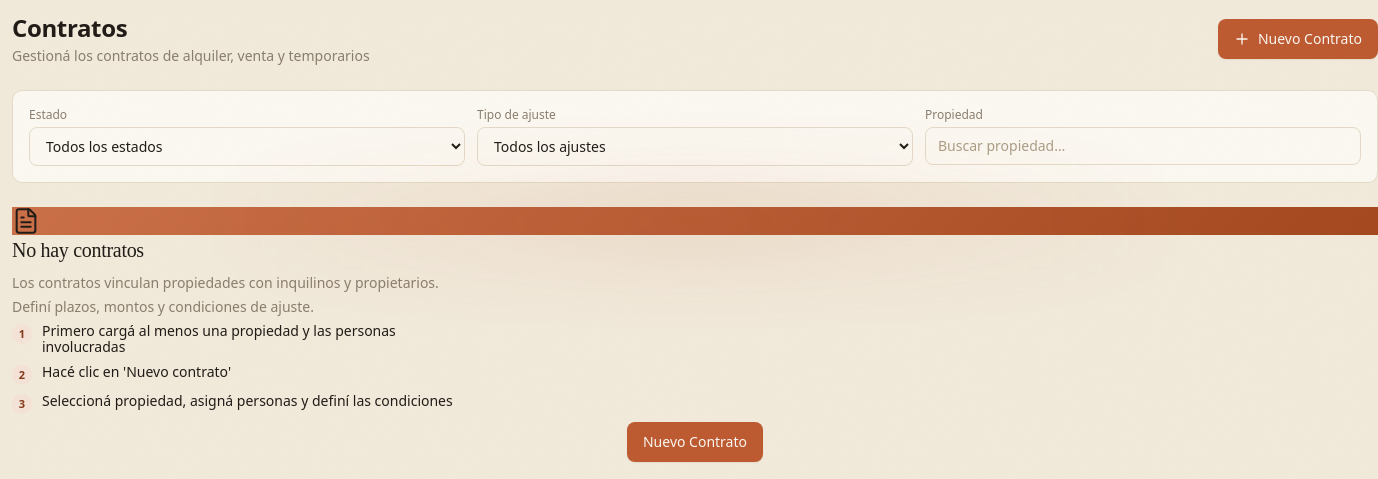
it: ContractList › con filtros y sin resultados ofrece limpiarlos
Type "xyz" into the field with id "filter-search" at [1143, 146], box [925, 127, 1361, 165]
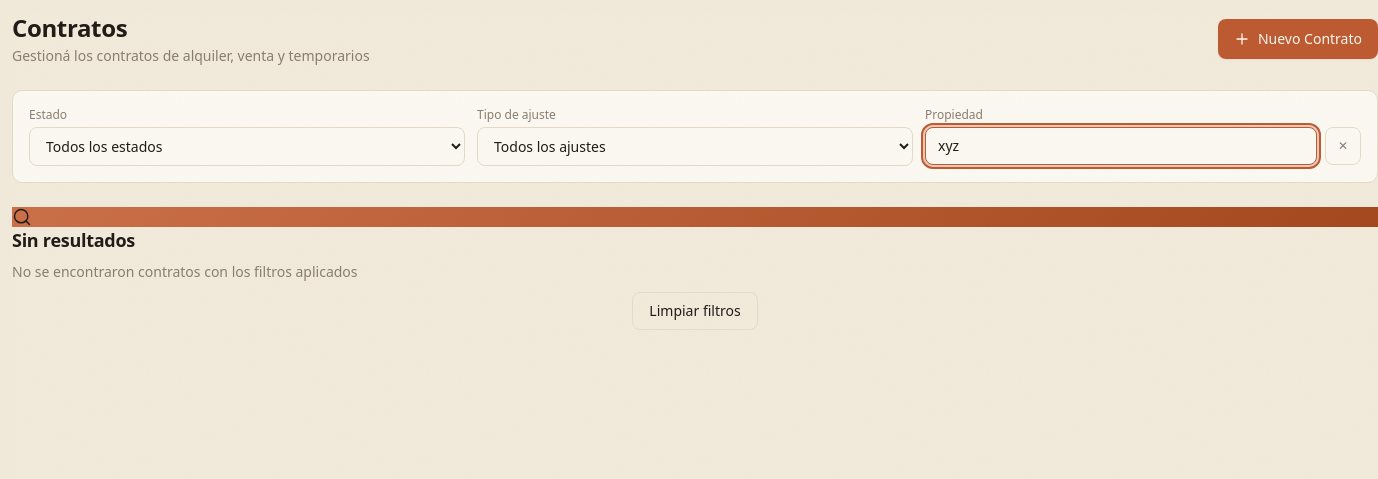
Click the button "Limpiar filtros" at [695, 311], box [632, 292, 758, 330]
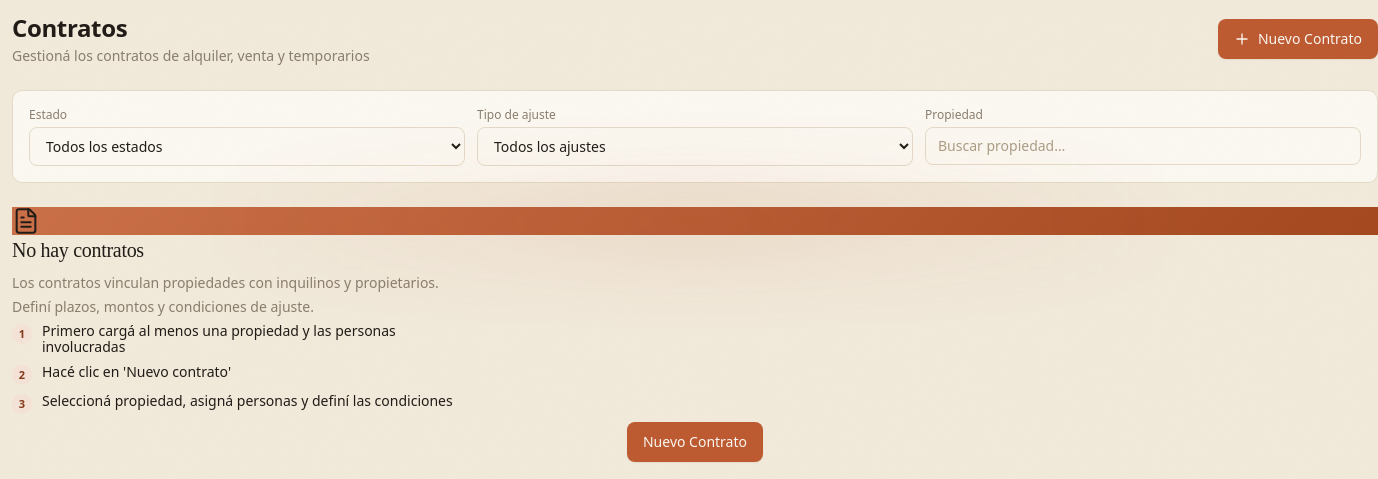
Expected: the button "Limpiar filtros" is gone
